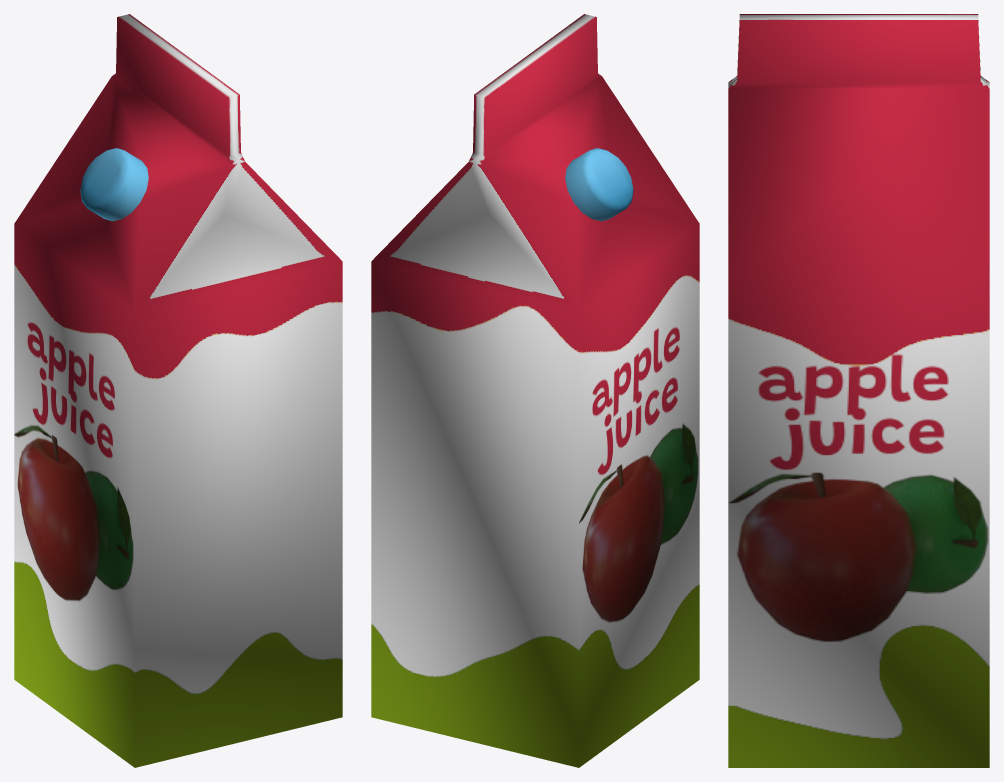
Rendered from Apple_juice.glb.
3 views of the same model, side by side, from view 1: azimuth 30°, elevation 25°; view 2: azimuth 150°, elevation 25°; view 3: azimuth 270°, elevation 25° (orthographic). The views are drawn at different scales.
Visible parts, largest first — view 1: Apple juice, bouchon.006; view 2: Apple juice, bouchon.006; view 3: Apple juice.
Boxes of the visible parts, x1,y1,x2,y2 form: Apple juice: (14, 14, 342, 767); bouchon.006: (80, 148, 148, 221); Apple juice: (371, 14, 699, 767); bouchon.006: (565, 148, 633, 221); Apple juice: (728, 14, 989, 767).
Size of the model in its own units: 0.3434 by 1.01 by 0.3453.
1 material, 1 textured.
